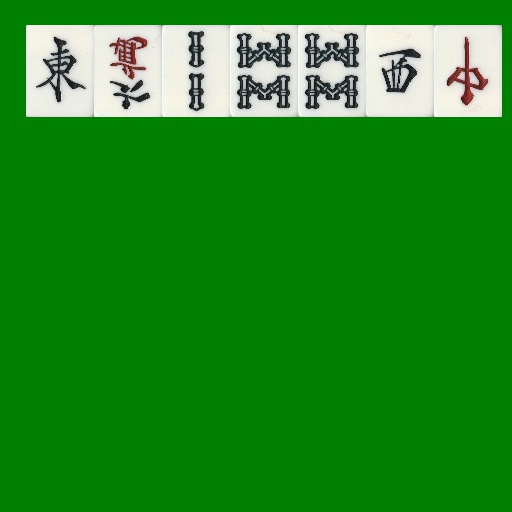2s: (162, 25, 230, 117)
6m: (94, 25, 162, 117)
8s: (230, 25, 298, 117), (298, 25, 366, 117)
east: (26, 25, 94, 117)
tyun: (434, 25, 502, 117)
west: (366, 25, 434, 117)
